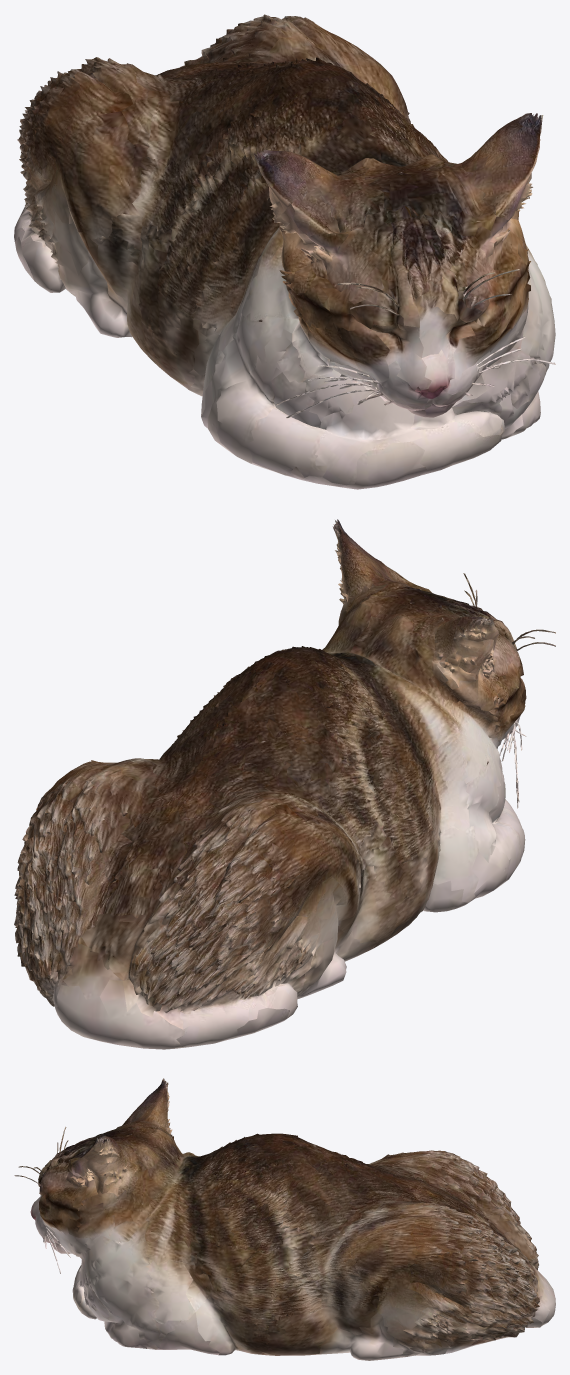
The model's file is juanki.glb.
3 renders of one model, top to bottom at view 1: azimuth 30°, elevation 25°; view 2: azimuth 150°, elevation 25°; view 3: azimuth 270°, elevation 25°, orthographic. The views are drawn at different scales.
Visible parts, largest first — view 1: m.obj; view 2: m.obj; view 3: m.obj.
Boxes of the visible parts, x1,y1,x2,y2 form: m.obj: [14, 14, 555, 489]; m.obj: [14, 519, 555, 1049]; m.obj: [14, 1078, 555, 1360].
Bounding box in the file's own units: 0.9001 × 0.7955 × 1.92.
1 material, 1 textured.
